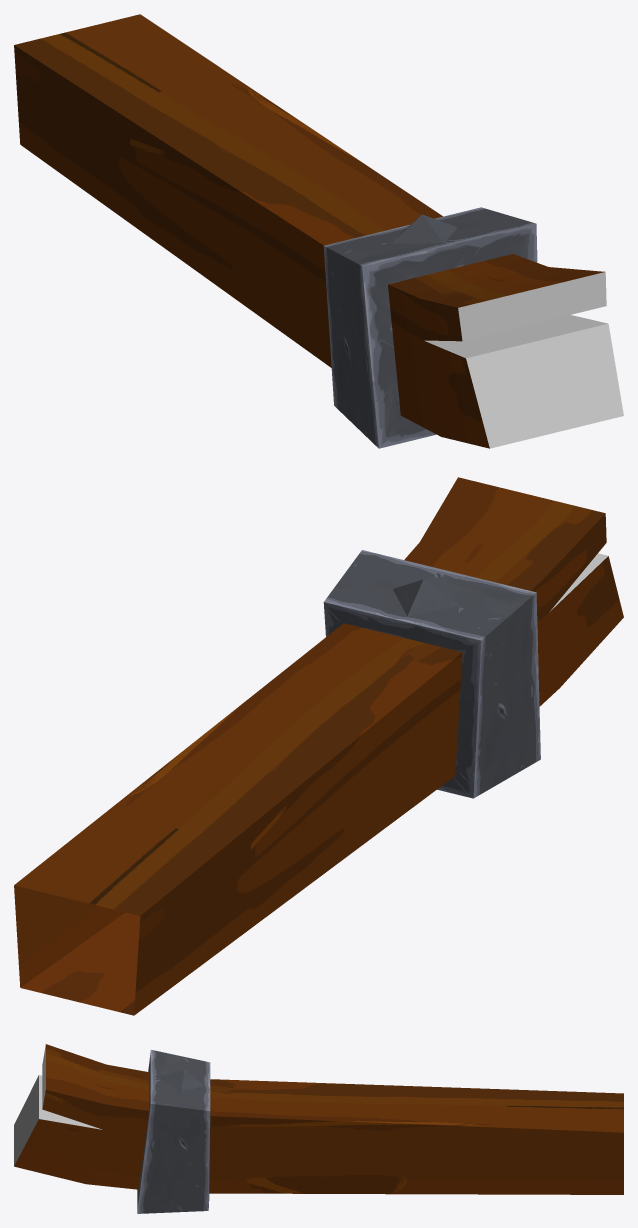
File: SM_BLD_beam_small_v02_02.fbx
3 views of the same model, one above another, from view 1: azimuth 30°, elevation 25°; view 2: azimuth 150°, elevation 25°; view 3: azimuth 270°, elevation 25° (orthographic). The views are drawn at different scales.
Parts seen in each view (by area): view 1: SM_BLD_beam_small_v02_02; view 2: SM_BLD_beam_small_v02_02; view 3: SM_BLD_beam_small_v02_02.
Boxes of the visible parts, bbox=[...] form: SM_BLD_beam_small_v02_02: bbox=[14, 14, 623, 448]; SM_BLD_beam_small_v02_02: bbox=[14, 477, 623, 1015]; SM_BLD_beam_small_v02_02: bbox=[14, 1044, 623, 1213].
Bounding box in the file's own units: 66.24 × 69.89 × 316.
